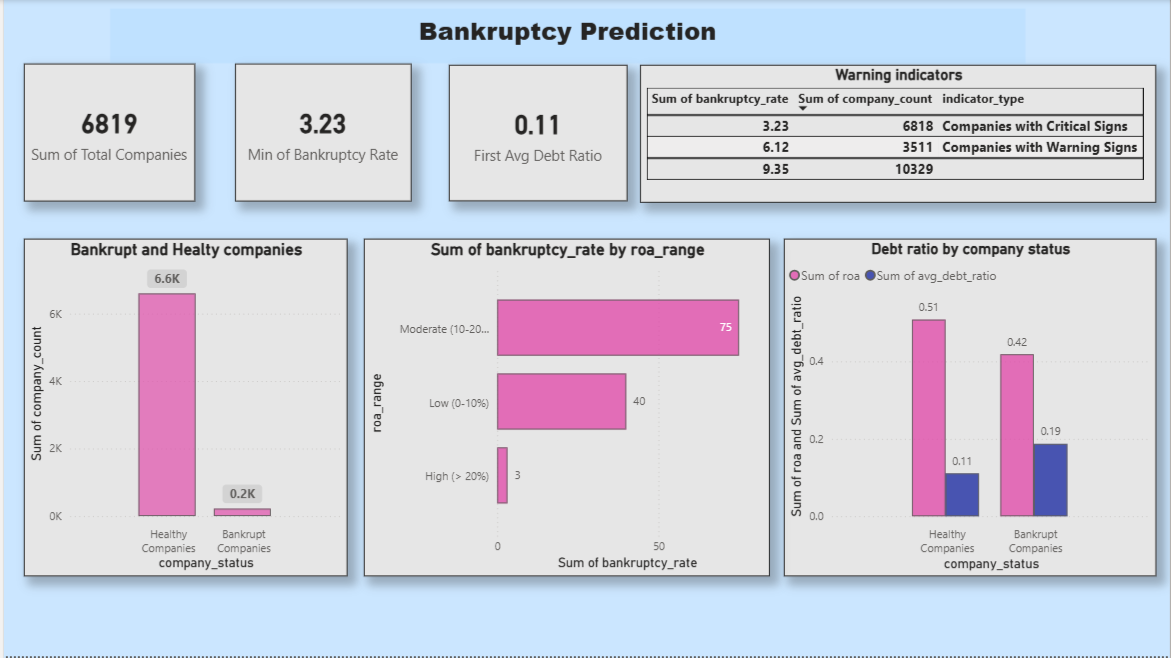

This screenshot's page, from the dashboard's own definition file:
{"tool":"powerbi","page":{"name":"Page 1","canvas":[1280,720],"ordinal":4},"visuals":[{"type":"card","fields":{"Values":["Sum(kpi.Total Companies)"]},"box":[22,70,188,150.9],"z":0},{"type":"card","fields":{"Values":["Min(kpi.Bankruptcy Rate)"]},"box":[253.9,70,193.5,150.9],"z":1},{"type":"card","fields":{"Values":["Min(kpi.Avg Debt Ratio)"]},"box":[488.5,71.4,196.2,149.6],"z":2},{"type":"textbox","box":[116.6,9.6,1004.5,60.4],"z":3},{"type":"clusteredColumnChart","title":"Bankrupt and Healty companies","fields":{"Category":["bancrupt_healthy_companies.company_status"],"Y":["Sum(bancrupt_healthy_companies.company_count)"]},"box":[22,262.1,355.4,370.5],"z":4},{"type":"clusteredColumnChart","title":"Debt ratio by company status","fields":{"Category":["bancrupt_healthy_companies.company_status"],"Y":["Sum(bancrupt_healthy_companies.roa)","Sum(bancrupt_healthy_companies.avg_debt_ratio)"]},"box":[856.3,262.1,408.9,370.5],"z":5},{"type":"clusteredBarChart","fields":{"Category":["time_based_trends.roa_range"],"Y":["Sum(time_based_trends.bankruptcy_rate)"]},"box":[395.2,262.1,446,370.5],"z":6},{"type":"tableEx","title":"Warning indicators","fields":{"Values":["Sum(warning indicators.bankruptcy_rate)","Sum(warning indicators.company_count)","warning indicators.indicator_type"]},"box":[698.5,71.4,566.7,150.9],"z":7}]}

Visuals, with their boxes in screenshot pixels (x1, y1, x2, y2), scaled from the page's 1280x720 canvas onto the 1171x658 screenshot:
card - Sum(kpi.Total Companies): <box>20,64,192,202</box>
card - Min(kpi.Bankruptcy Rate): <box>232,64,409,202</box>
card - Min(kpi.Avg Debt Ratio): <box>447,65,626,202</box>
textbox: <box>107,9,1026,64</box>
"Bankrupt and Healty companies" clusteredColumnChart: <box>20,240,345,578</box>
"Debt ratio by company status" clusteredColumnChart: <box>783,240,1157,578</box>
clusteredBarChart - time_based_trends.roa_range x Sum(time_based_trends.bankruptcy_rate): <box>362,240,770,578</box>
"Warning indicators" tableEx: <box>639,65,1157,203</box>
